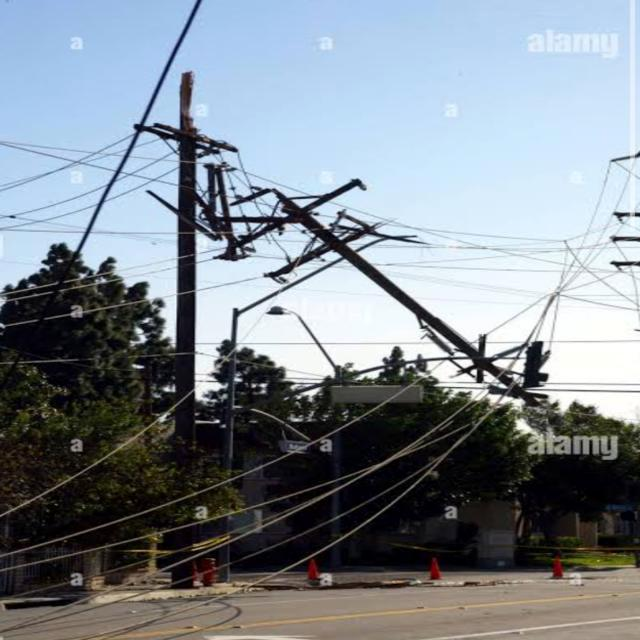Broken Pole: (203, 162, 554, 417)
